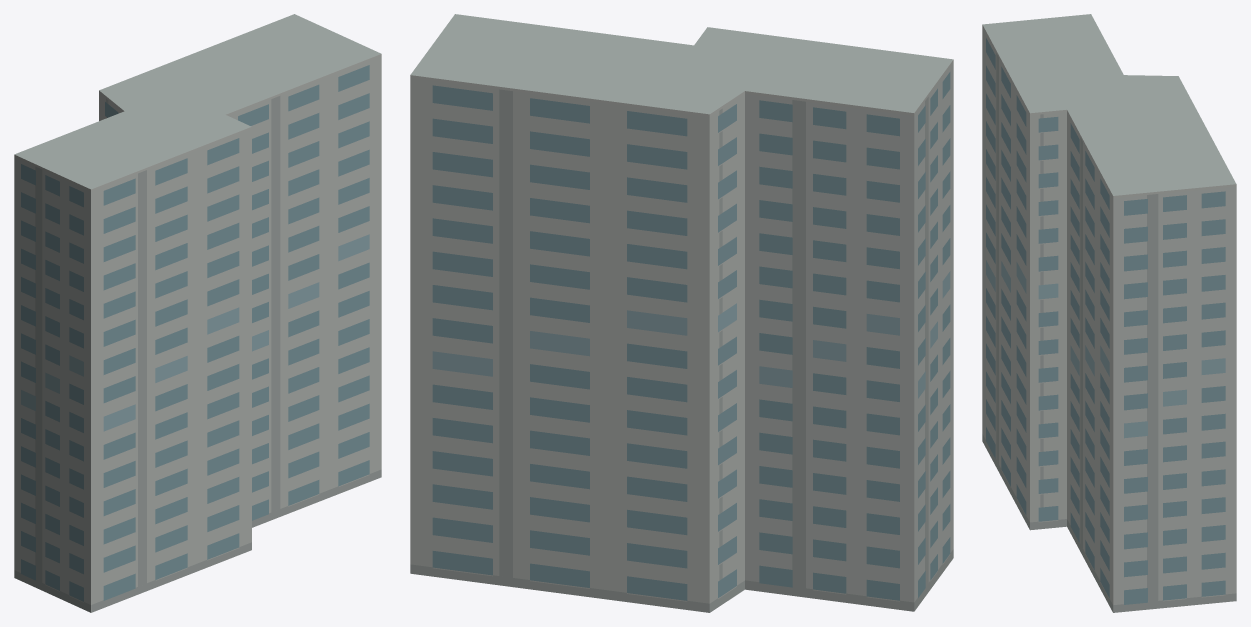
File: residential-db3c9331-e559-4d1d-8e78-aca8de5d9d09.glb
3 renders of one model, left to right at view 1: azimuth 30°, elevation 25°; view 2: azimuth 150°, elevation 25°; view 3: azimuth 270°, elevation 25°, orthographic. The views are drawn at different scales.
Visible parts, largest first — view 1: residential-db3c9331-e559-4d1d-8e78-aca8de5d9d09.tmp; view 2: residential-db3c9331-e559-4d1d-8e78-aca8de5d9d09.tmp; view 3: residential-db3c9331-e559-4d1d-8e78-aca8de5d9d09.tmp.
Boxes of the visible parts, box(x1,y1,x2,y2) form: residential-db3c9331-e559-4d1d-8e78-aca8de5d9d09.tmp: box(14, 14, 381, 612); residential-db3c9331-e559-4d1d-8e78-aca8de5d9d09.tmp: box(410, 14, 953, 612); residential-db3c9331-e559-4d1d-8e78-aca8de5d9d09.tmp: box(982, 14, 1236, 612).
Bounding box in the file's own units: 42.84 × 45.75 × 25.28.
